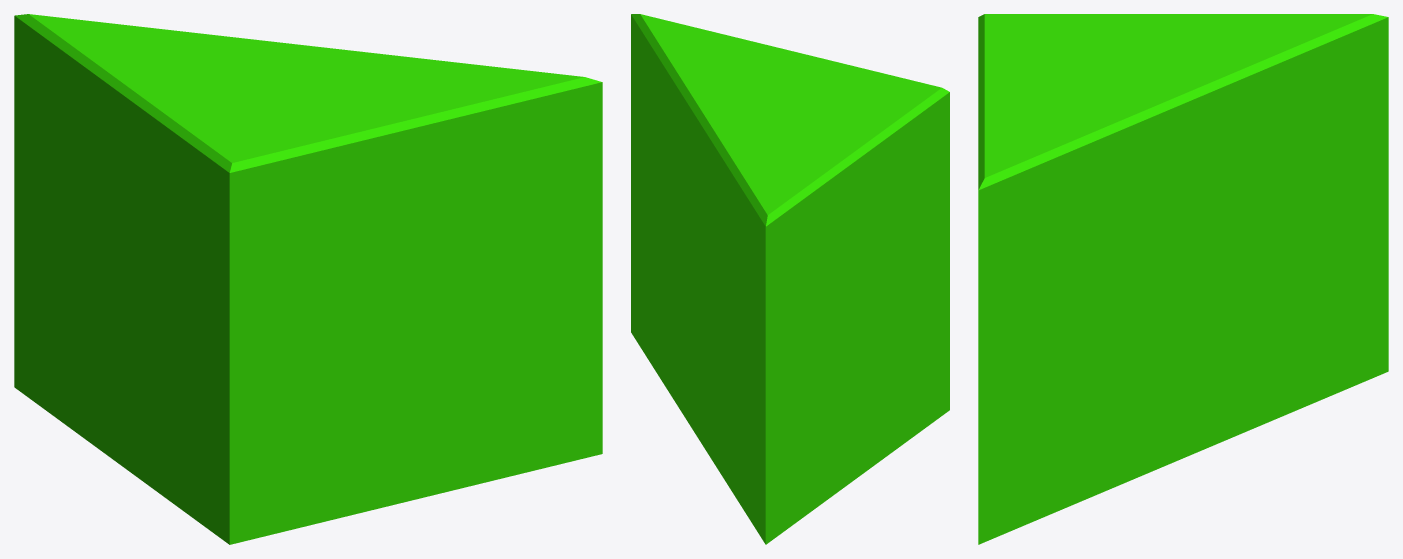
The model's file is triangle_3x3.fbx.
3 renders of one model, left to right at view 1: azimuth 30°, elevation 25°; view 2: azimuth 150°, elevation 25°; view 3: azimuth 270°, elevation 25°, orthographic. The views are drawn at different scales.
Visible parts, largest first — view 1: triangle_3x3; view 2: triangle_3x3; view 3: triangle_3x3.
Part boxes in pixels (x1=…): triangle_3x3: x1=14, y1=14, x2=602, y2=544; triangle_3x3: x1=631, y1=14, x2=949, y2=544; triangle_3x3: x1=978, y1=14, x2=1388, y2=544.
Size of the model in its own units: 320 by 310 by 320.
